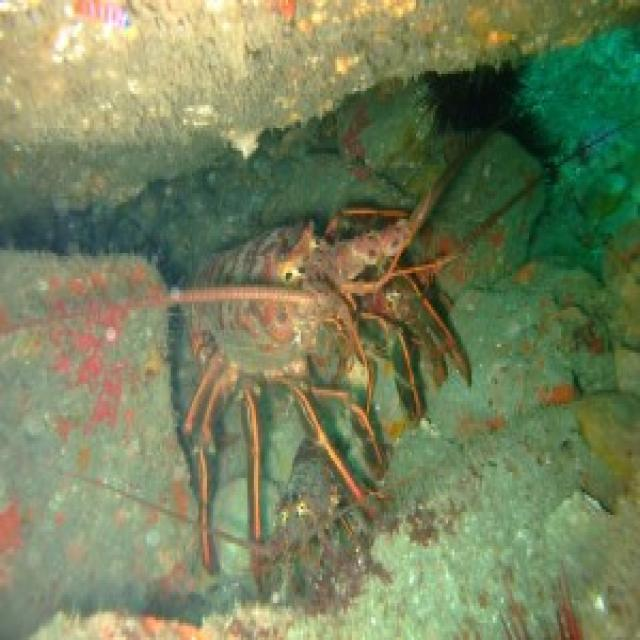lobsters: (121, 146, 497, 533)
